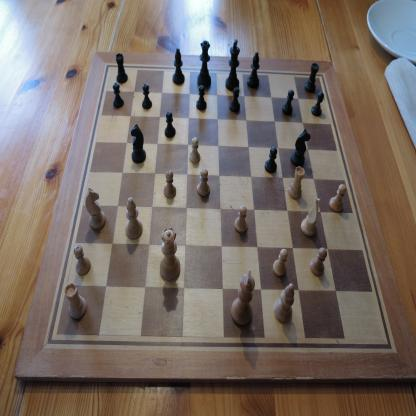black-bishop: (246, 51, 260, 89), (172, 47, 185, 86)
black-king: (225, 38, 240, 92)
black-knight: (290, 128, 311, 167), (130, 123, 146, 164)
black-pawn: (264, 146, 278, 174), (311, 92, 324, 117), (282, 89, 294, 116), (164, 111, 176, 138), (112, 82, 124, 108), (229, 86, 241, 112), (196, 85, 207, 111), (142, 84, 152, 110)
black-queen: (196, 40, 212, 88)
black-rook: (304, 62, 320, 93), (115, 53, 128, 84)
white-bishop: (273, 283, 295, 323), (125, 197, 143, 239)
white-king: (231, 269, 255, 326)
white-knight: (85, 187, 106, 231), (300, 198, 321, 236)
white-pawn: (328, 183, 346, 213), (310, 247, 328, 276), (74, 245, 91, 275), (272, 248, 288, 278), (196, 168, 210, 197), (234, 205, 248, 234), (164, 170, 176, 198), (189, 137, 201, 164)
white-queen: (159, 227, 181, 281)
white-rook: (64, 282, 87, 320), (288, 166, 306, 200)
